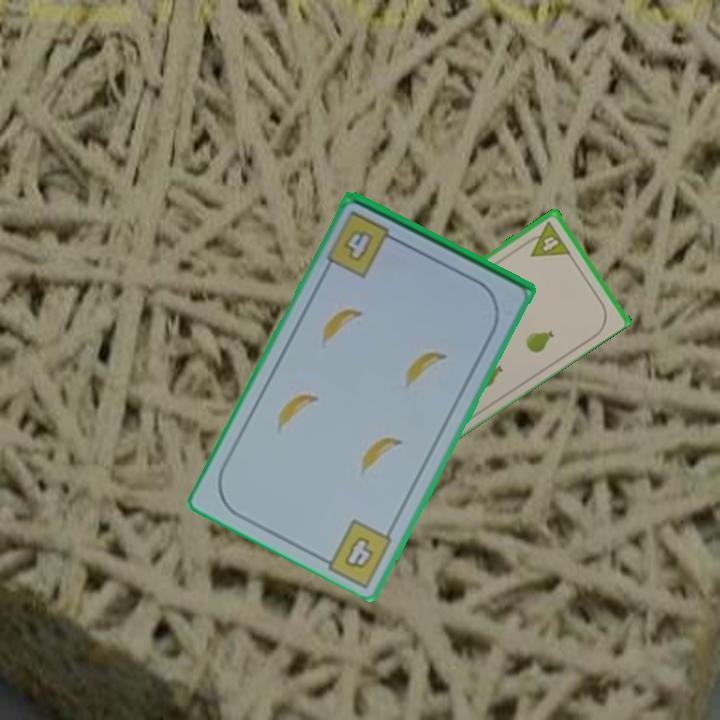4b: (326, 207, 404, 281), (340, 533, 377, 573)
4p: (521, 217, 573, 260)
